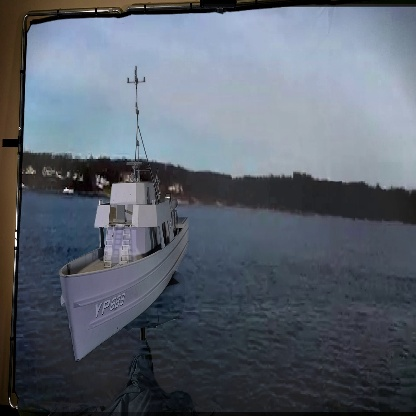YP689: (57, 64, 190, 365)
